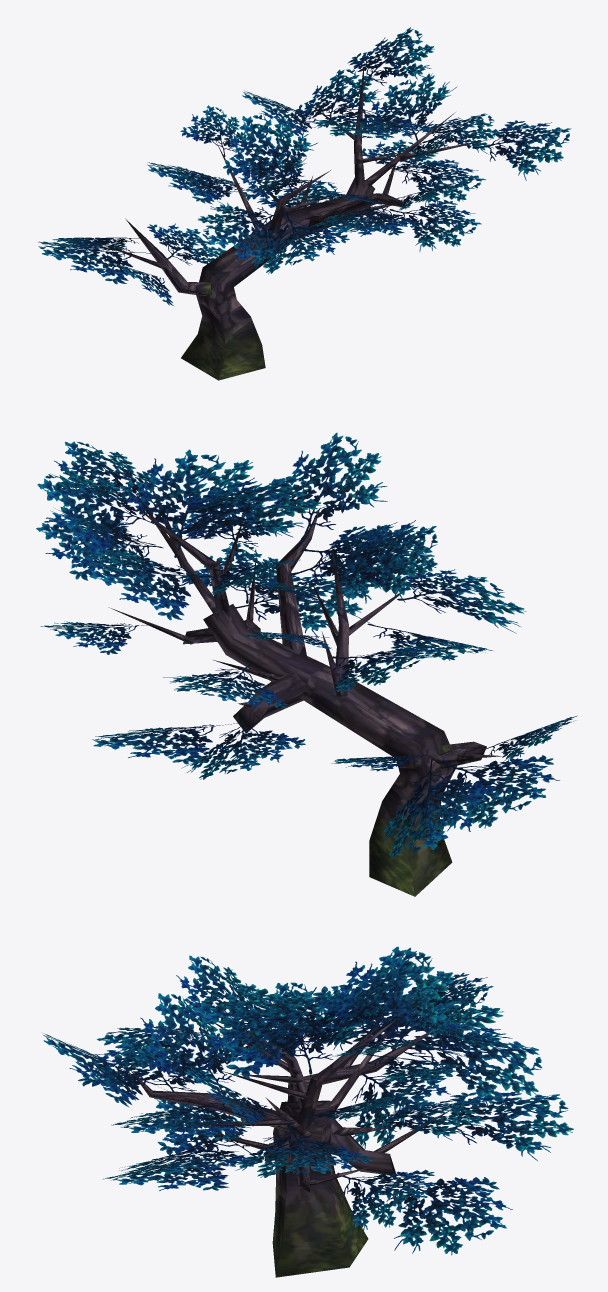
The model's file is DZMG_YHY_Shu01.FBX.
The picture shows the model from 3 angles, top to bottom: view 1: azimuth 30°, elevation 25°; view 2: azimuth 150°, elevation 25°; view 3: azimuth 270°, elevation 25°; orthographic projection. The views are drawn at different scales.
Visible parts, largest first — view 1: DZMG_YHYShuYe01, DZMG_YHY_ShuGan01; view 2: DZMG_YHYShuYe01, DZMG_YHY_ShuGan01; view 3: DZMG_YHYShuYe01, DZMG_YHY_ShuGan01.
Boxes of the visible parts, box(x1,y1,x2,y2) form: DZMG_YHYShuYe01: box(38, 27, 571, 305); DZMG_YHY_ShuGan01: box(99, 62, 490, 380); DZMG_YHYShuYe01: box(36, 432, 577, 858); DZMG_YHY_ShuGan01: box(108, 478, 502, 896); DZMG_YHYShuYe01: box(43, 946, 573, 1255); DZMG_YHY_ShuGan01: box(130, 995, 450, 1277).
Bounding box in the file's own units: 9030 × 4805 × 6504.
